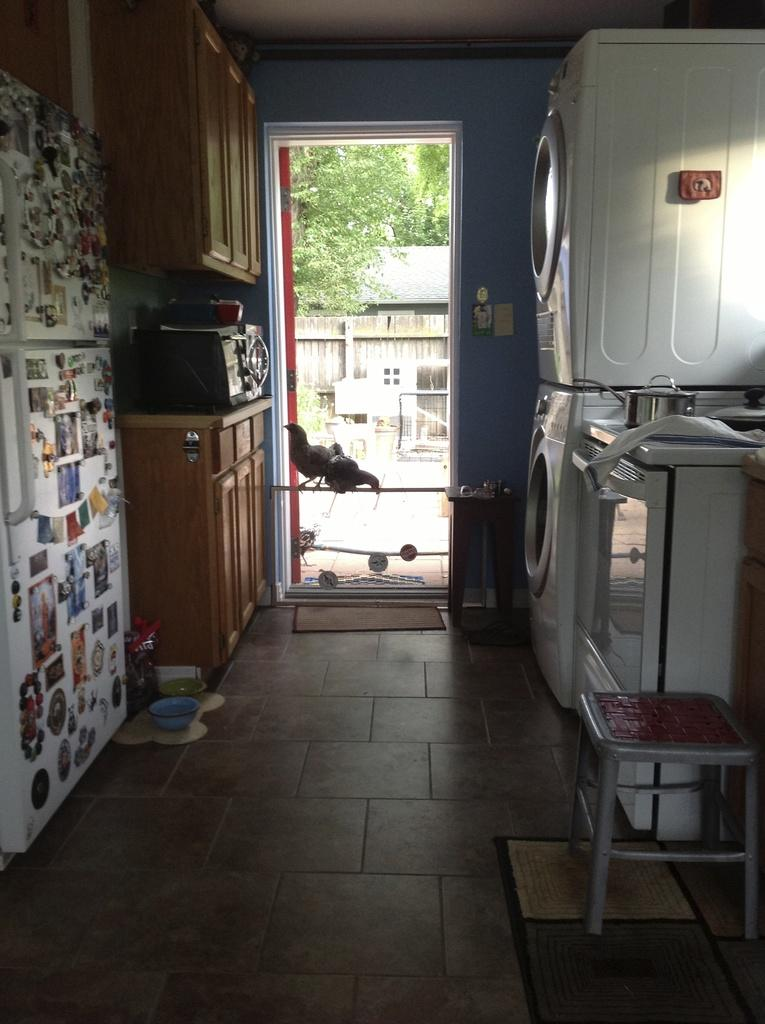cabinet_door: (222, 66, 254, 282), (198, 31, 226, 249), (210, 481, 242, 660), (240, 108, 268, 283), (231, 456, 254, 604), (250, 451, 272, 590)
handle: (0, 337, 47, 536), (0, 169, 29, 333)
